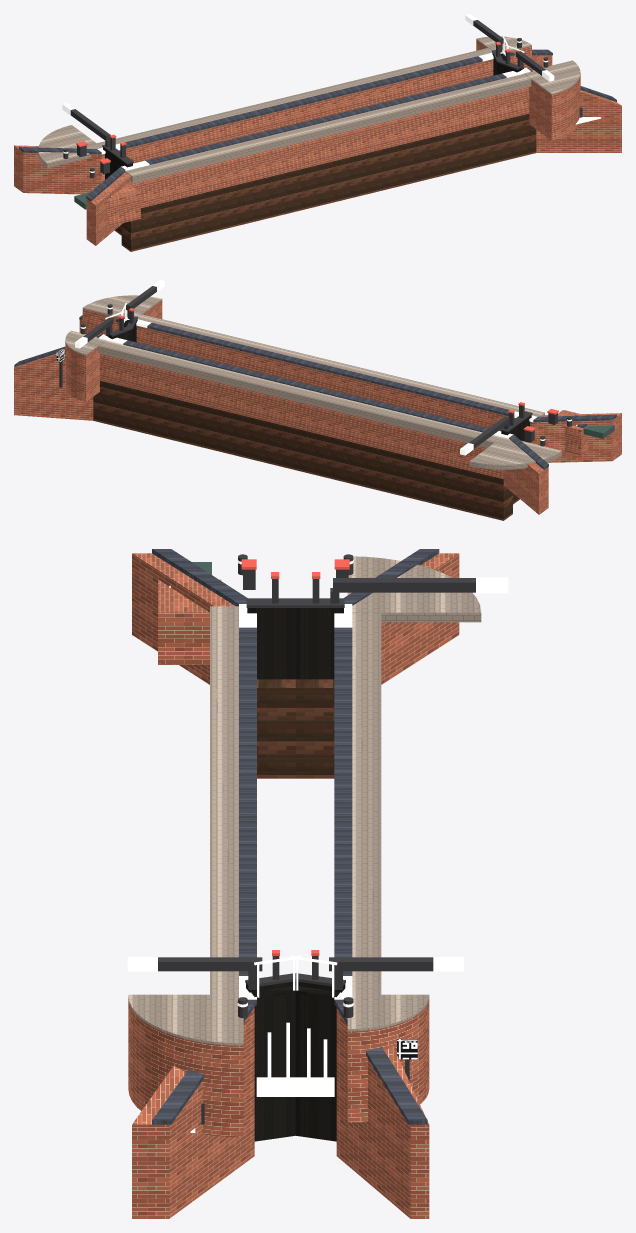
Rendered from lock-38.glb.
3 renders of one model, top to bottom at view 1: azimuth 30°, elevation 25°; view 2: azimuth 150°, elevation 25°; view 3: azimuth 270°, elevation 25°, orthographic. The views are drawn at different scales.
Parts seen in each view (by area): view 1: Chamber, ChamberWet, Edge, Coping.001, TopGateCap, Coping, TopGate; view 2: Chamber, ChamberWet, Edge, Coping.001, TopGateCap, Coping, TopGate, WeirWater; view 3: Chamber, Edge, Coping.001, TopGate, TopGateCap, ChamberWet, Coping, Leak.
Boxes of the visible parts, x1,y1,x2,y2 form: Chamber: (14, 40, 621, 245); ChamberWet: (114, 113, 536, 251); Edge: (38, 36, 580, 183); Coping.001: (19, 49, 616, 201); TopGateCap: (63, 20, 582, 178); Coping: (62, 14, 554, 172); TopGate: (103, 53, 523, 179); Chamber: (14, 300, 621, 514); ChamberWet: (93, 380, 519, 520); Edge: (65, 295, 561, 469); Coping.001: (14, 315, 616, 469); TopGateCap: (59, 286, 571, 448); Coping: (75, 280, 571, 455); TopGate: (105, 319, 531, 442); WeirWater: (583, 425, 614, 438); Chamber: (128, 553, 459, 1218); Edge: (128, 556, 481, 1045); Coping.001: (152, 549, 439, 1124); TopGate: (246, 608, 345, 1141); TopGateCap: (158, 554, 475, 1124); ChamberWet: (257, 679, 334, 778); Coping: (127, 560, 508, 1007); Leak: (169, 585, 334, 1132).
Size of the model in its own units: 32.76 by 5.72 by 10.24.
Materials: 11 (8 with a texture image).
